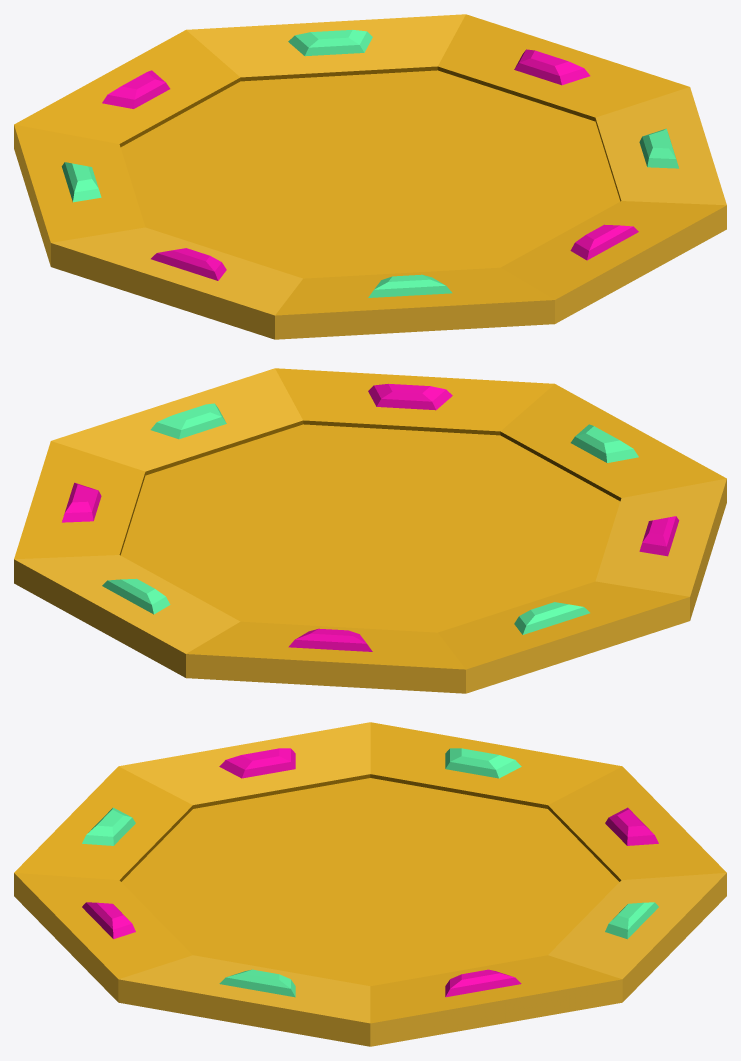
File: TreasurePlate_01.glb
3 renders of one model, top to bottom at view 1: azimuth 30°, elevation 25°; view 2: azimuth 150°, elevation 25°; view 3: azimuth 270°, elevation 25°, orthographic. The views are drawn at different scales.
Parts seen in each view (by area): view 1: TreasurePlate_01; view 2: TreasurePlate_01; view 3: TreasurePlate_01.
Boxes of the visible parts, x1,y1,x2,y2 form: TreasurePlate_01: (14, 14, 726, 339); TreasurePlate_01: (14, 368, 726, 693); TreasurePlate_01: (14, 722, 726, 1046).
Size of what is drawn, in the model's own units: 0.4356 by 0.0216 by 0.4356.
1 material, 1 textured.
